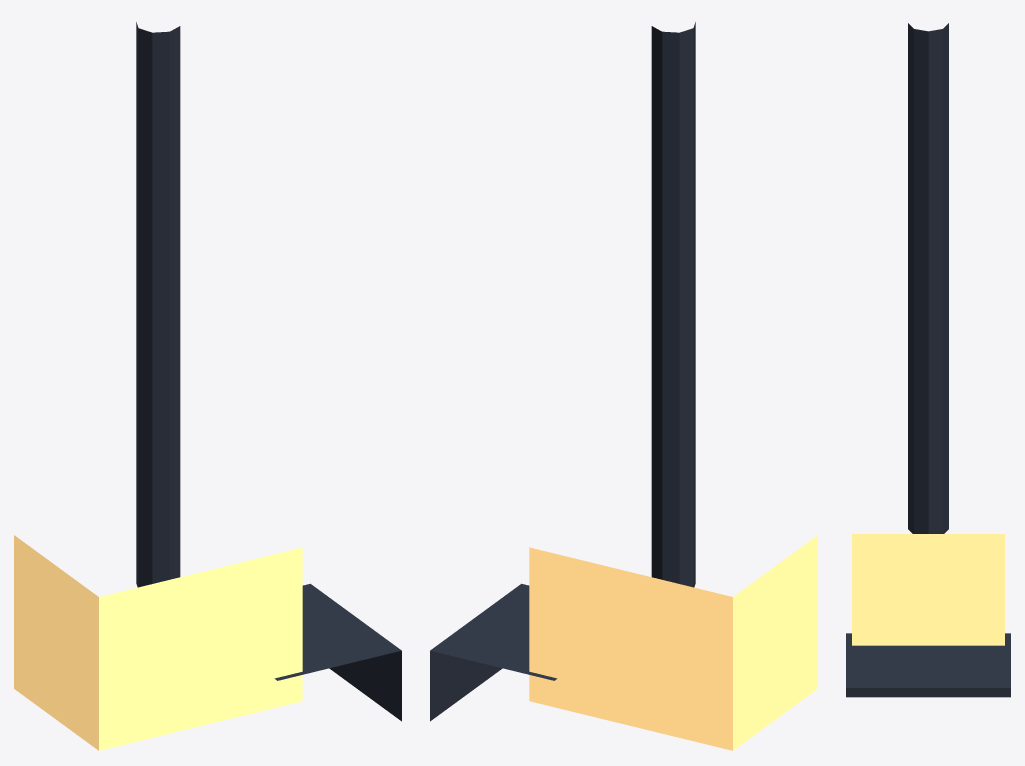
The model's file is clockwerk.glb.
The picture shows the model from 3 angles, left to right: view 1: azimuth 30°, elevation 25°; view 2: azimuth 150°, elevation 25°; view 3: azimuth 270°, elevation 25°; orthographic projection. The views are drawn at different scales.
Parts seen in each view (by area): view 1: clockwerk-head, clockwerk-haft, clockwerk-jaw; view 2: clockwerk-head, clockwerk-haft, clockwerk-jaw; view 3: clockwerk-haft, clockwerk-head, clockwerk-jaw.
Boxes of the visible parts, bbox=[...] form: clockwerk-head: bbox=[14, 535, 302, 750]; clockwerk-haft: bbox=[136, 22, 180, 587]; clockwerk-jaw: bbox=[274, 583, 401, 721]; clockwerk-head: bbox=[529, 535, 817, 750]; clockwerk-haft: bbox=[651, 22, 695, 587]; clockwerk-jaw: bbox=[430, 583, 557, 721]; clockwerk-haft: bbox=[908, 23, 948, 533]; clockwerk-head: bbox=[852, 534, 1004, 645]; clockwerk-jaw: bbox=[846, 633, 1010, 697].
Bounding box in the file's own units: 0.53 × 1.2 × 0.28.
